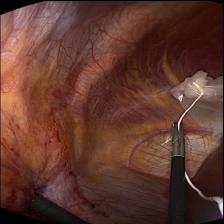Grasper: (169, 120, 187, 152)
Specimen Bag: (165, 67, 224, 125)
